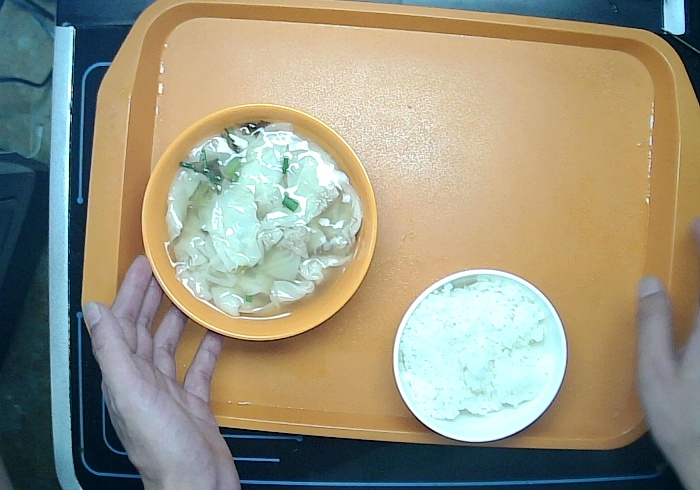NLDX-Fan_Wan: (391, 266, 570, 443)
NLDX-Hun_Tun_Wan: (141, 99, 381, 346)
